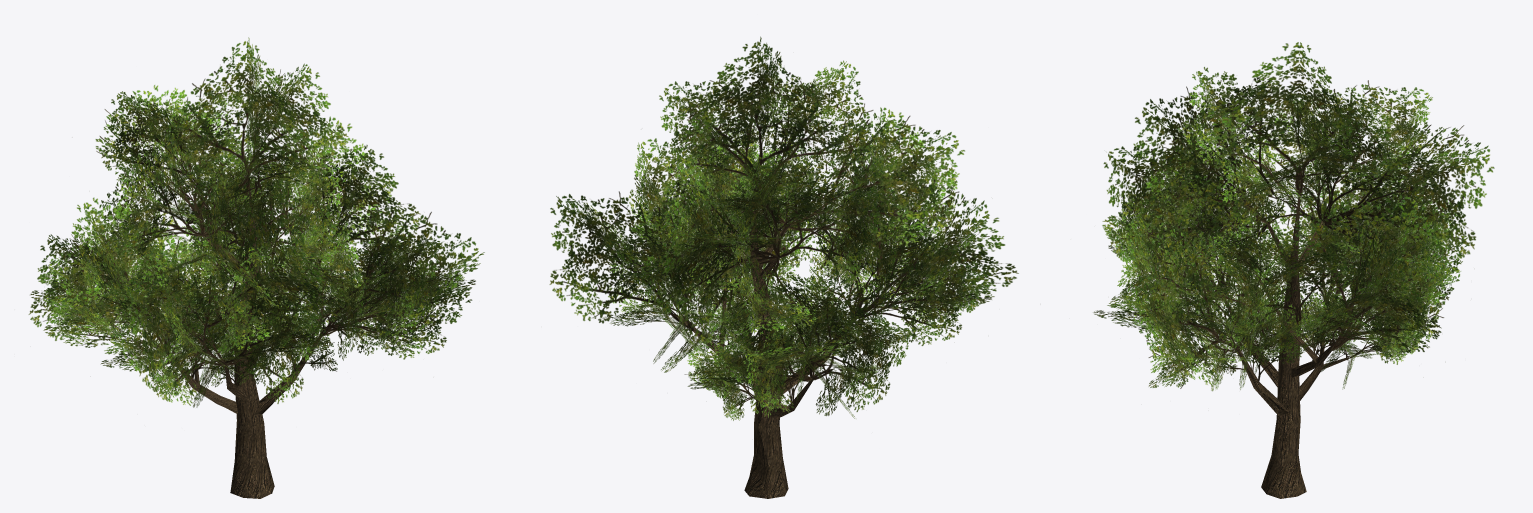
The model's file is tree800.glb.
The picture shows the model from 3 angles, left to right: view 1: azimuth 30°, elevation 25°; view 2: azimuth 150°, elevation 25°; view 3: azimuth 270°, elevation 25°; orthographic projection. The views are drawn at different scales.
Parts seen in each view (by area): view 1: tree800-col; view 2: tree800-col; view 3: tree800-col.
Part boxes in pixels (x1,y1,x2,y2): tree800-col: (28, 37, 484, 498); tree800-col: (549, 36, 1018, 498); tree800-col: (1093, 42, 1494, 498).
Size of the model in its own units: 30.64 by 35.28 by 30.21.
Materials: 2 (2 with a texture image).
